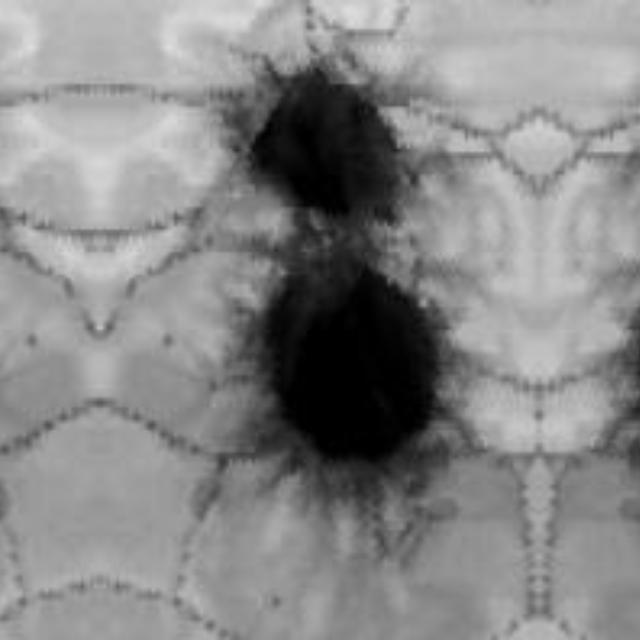good_void: (225, 232, 466, 559), (227, 48, 420, 230), (268, 595, 284, 609), (163, 335, 176, 347), (25, 335, 38, 347)
